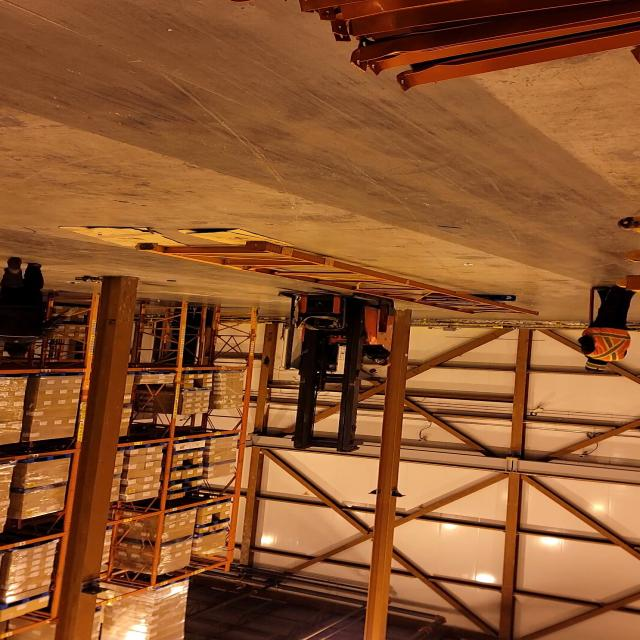forklift: (277, 286, 397, 448)
human: (0, 254, 72, 357), (580, 284, 634, 376), (336, 340, 392, 370)
objectofinterest: (128, 240, 542, 320), (51, 224, 193, 255), (172, 226, 296, 253), (478, 291, 518, 304)
